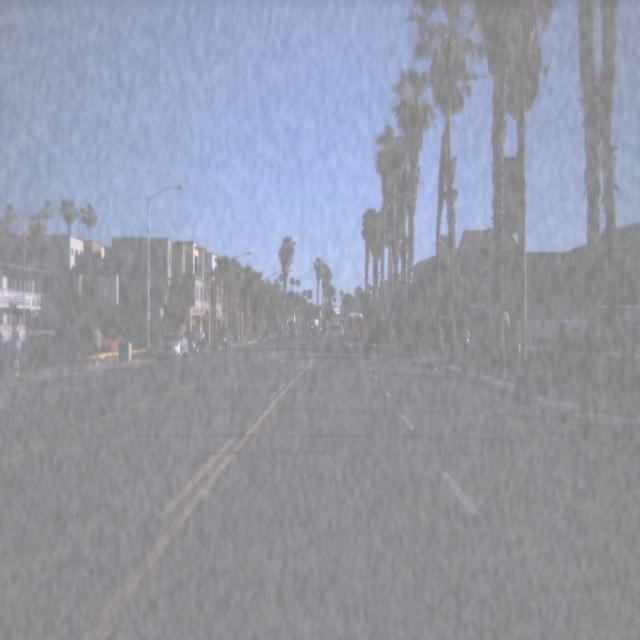stop: (344, 296, 352, 308), (327, 296, 333, 308)
stop traffic light: (344, 296, 352, 308), (327, 296, 333, 308)
